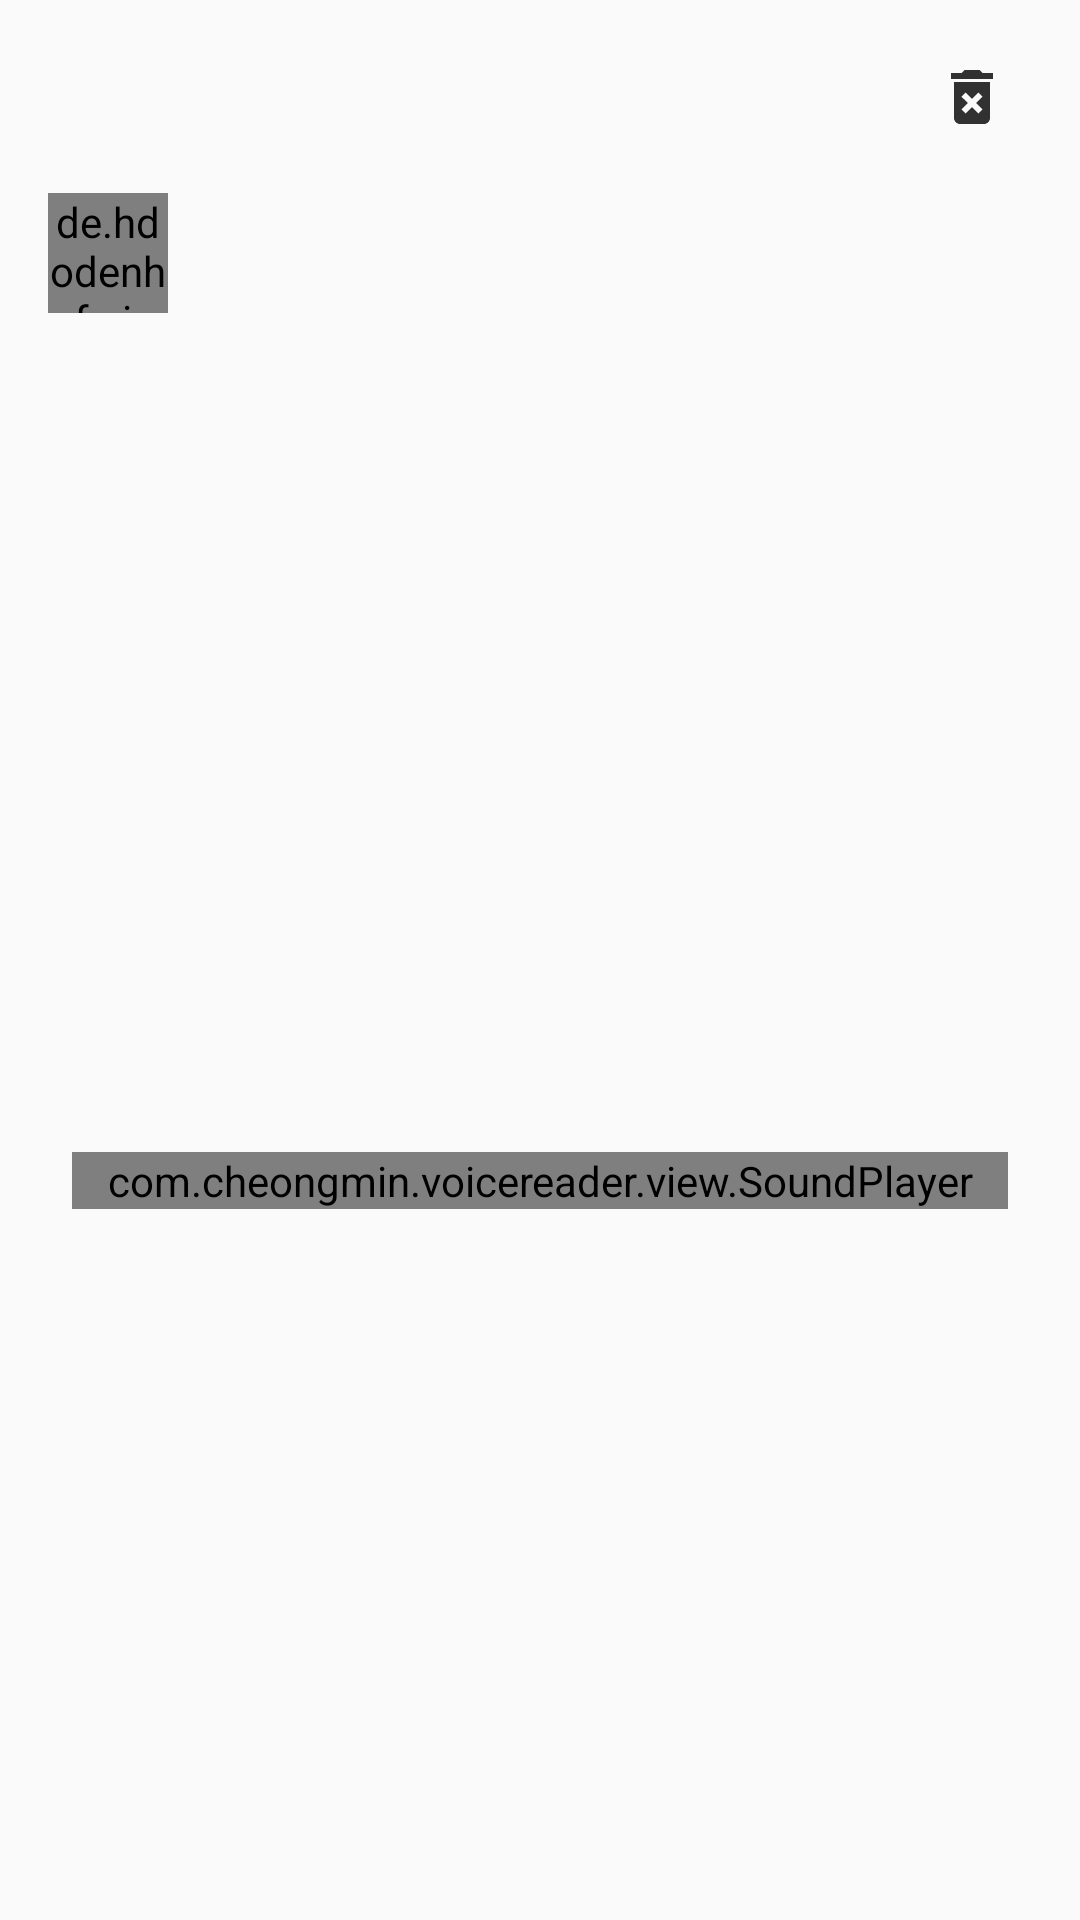

Locate icon controls on the screen. Image size 1080*1920, boxes as (x1, y1, x2, y2).
delete forever: (951, 70, 993, 124)
